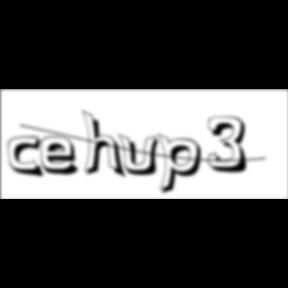3: (209, 116, 255, 176)
c: (8, 136, 48, 180)
e: (40, 135, 86, 178)
h: (83, 108, 130, 182)
p: (158, 132, 208, 198)
u: (118, 132, 166, 178)
